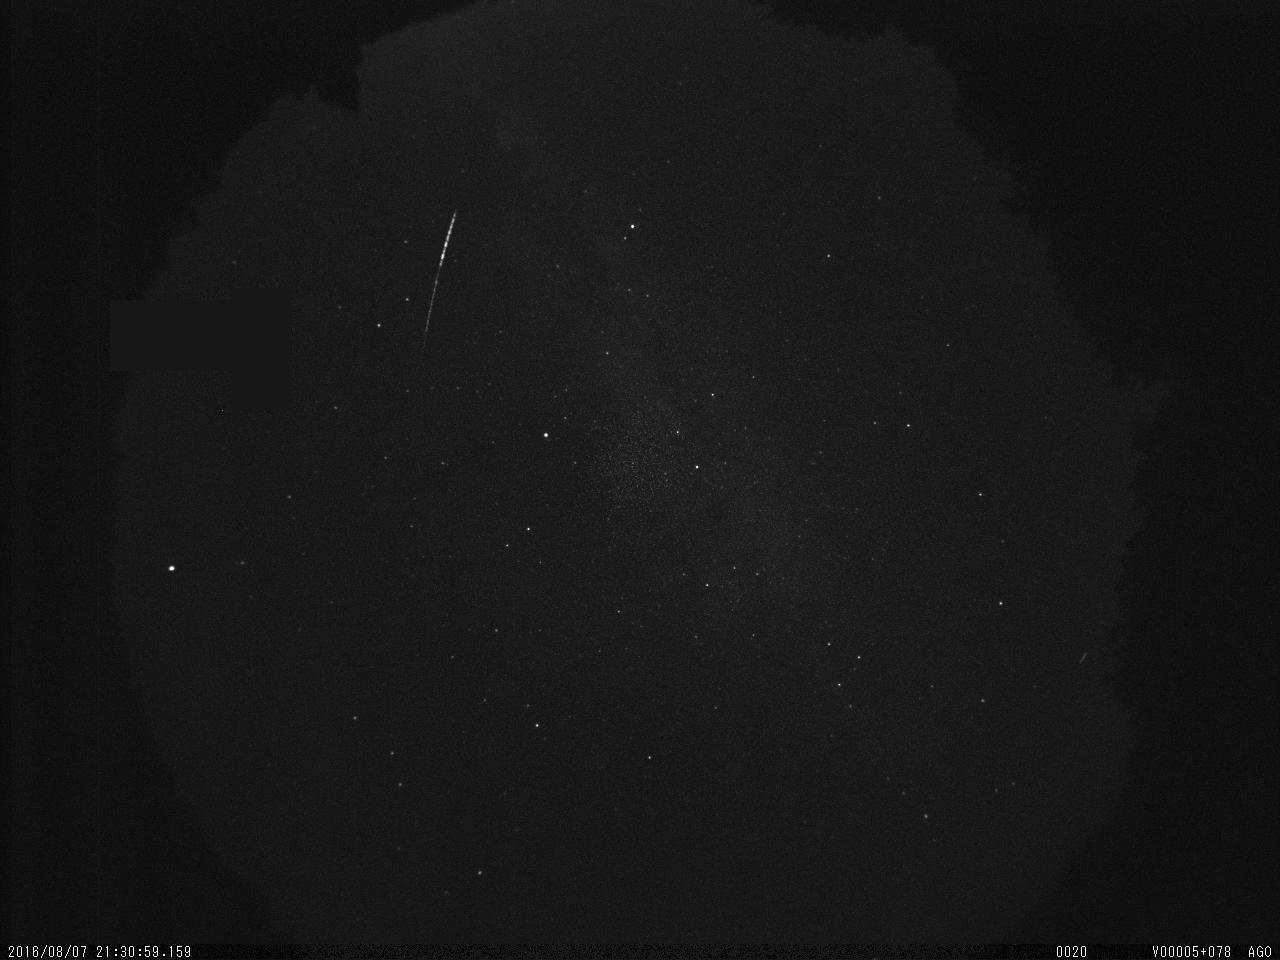meteor: (406, 200, 465, 361)
